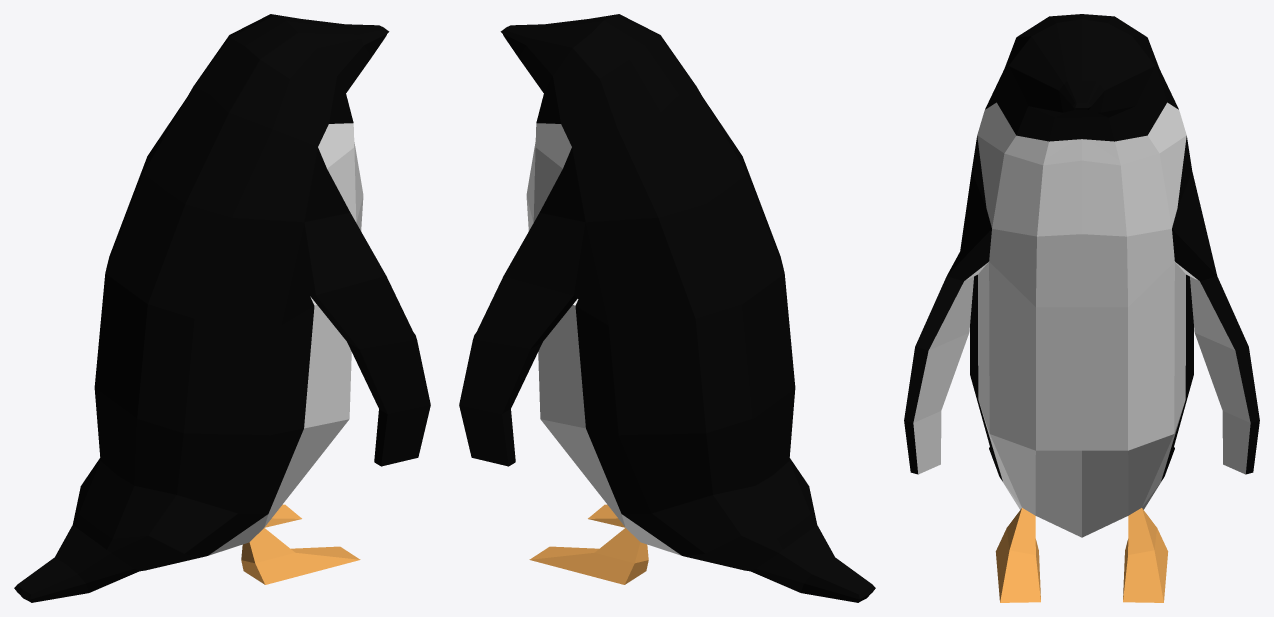
Rendered from penguin.gltf.
3 renders of one model, left to right at view 1: azimuth 30°, elevation 25°; view 2: azimuth 150°, elevation 25°; view 3: azimuth 270°, elevation 25°, orthographic. The views are drawn at different scales.
Visible parts, largest first — view 1: Penguin; view 2: Penguin; view 3: Penguin.
Boxes of the visible parts, box(x1,y1,x2,y2) form: Penguin: box(14, 14, 430, 602); Penguin: box(459, 14, 875, 602); Penguin: box(904, 14, 1259, 602).
Bounding box in the file's own units: 3.19 × 4.34 × 2.48.
